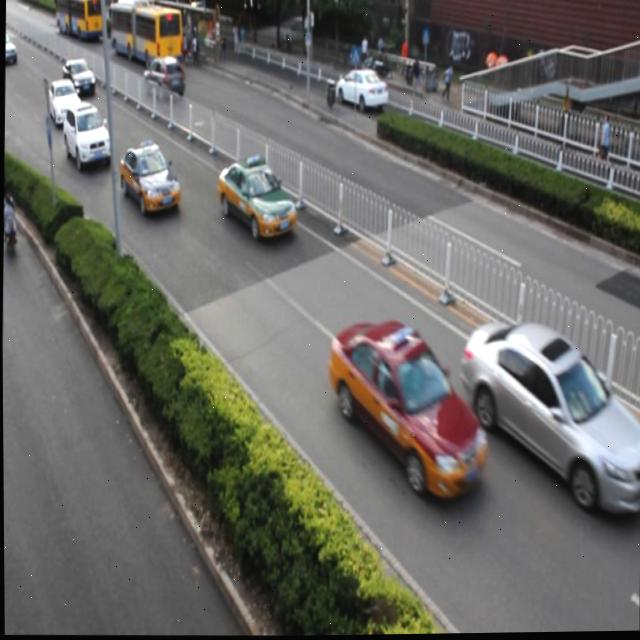car: (458, 318, 639, 520), (325, 319, 490, 504), (215, 154, 295, 243), (117, 141, 179, 217), (63, 102, 111, 170), (333, 68, 387, 113), (143, 53, 185, 103), (47, 80, 81, 129), (62, 56, 96, 97)
van: (109, 0, 182, 70)
